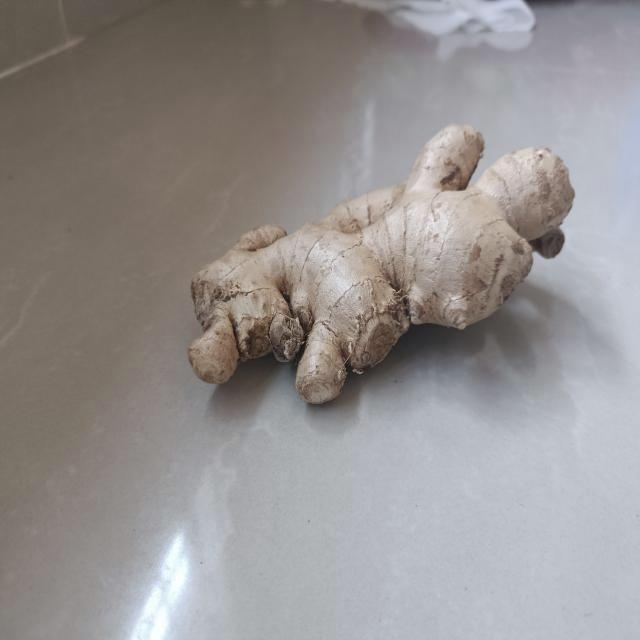ginger: (181, 121, 579, 410)
